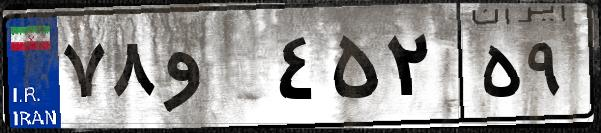2: (385, 28, 445, 110)
4: (270, 28, 330, 110)
5: (330, 28, 385, 110), (475, 38, 525, 113)
7: (57, 26, 110, 100)
8: (110, 28, 158, 98)
9: (525, 38, 570, 115)
و: (158, 20, 270, 120)
